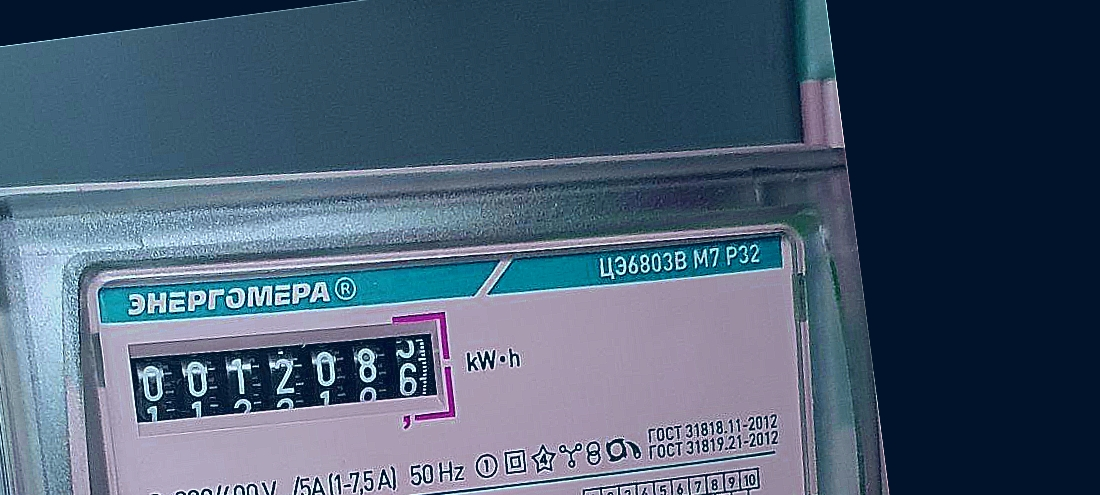0: (179, 355, 213, 400), (137, 359, 166, 404), (310, 347, 338, 389)
1: (224, 353, 251, 397)
2: (268, 354, 298, 396)
6: (392, 359, 420, 398)
8: (352, 343, 379, 385)
screen: (116, 290, 470, 471)
